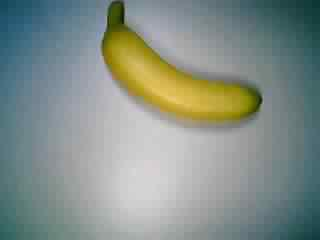banana: (91, 1, 266, 130)
